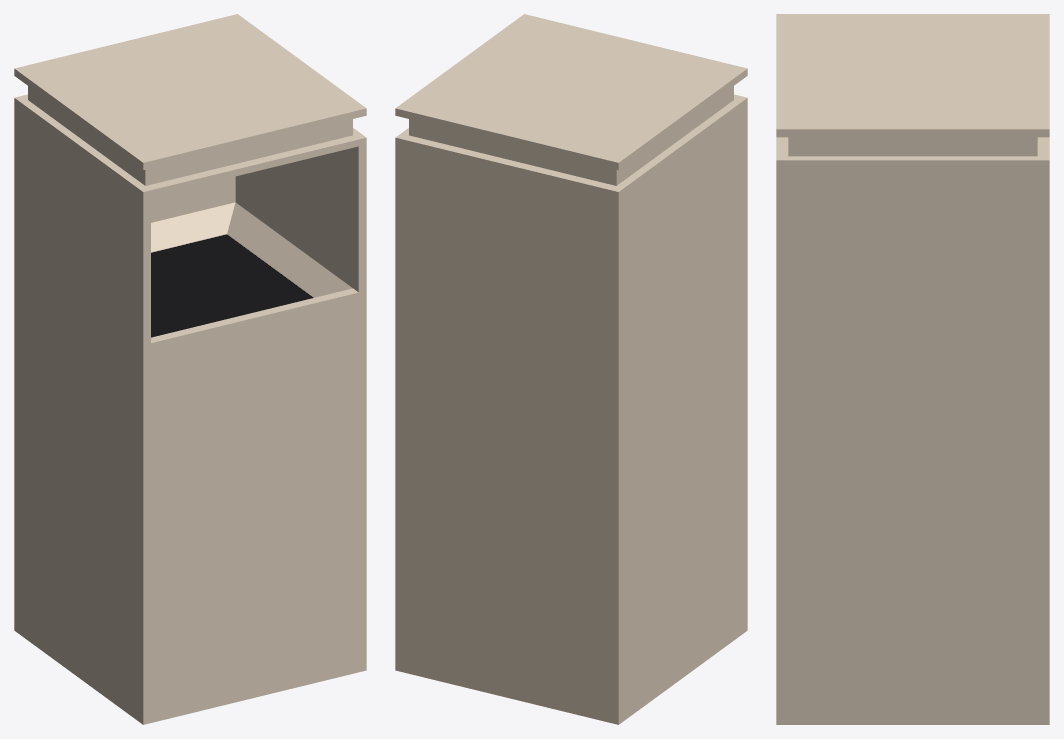
The model's file is SquareTrash.fbx.
The picture shows the model from 3 angles, left to right: view 1: azimuth 30°, elevation 25°; view 2: azimuth 150°, elevation 25°; view 3: azimuth 270°, elevation 25°; orthographic projection. The views are drawn at different scales.
Parts seen in each view (by area): view 1: Cube; view 2: Cube; view 3: Cube.
Part boxes in pixels (x1,y1,x2,y2): Cube: (14,14,366,724); Cube: (395,14,747,724); Cube: (776,14,1049,724).
Size of the model in its own units: 0.8 by 1.92 by 0.8.
